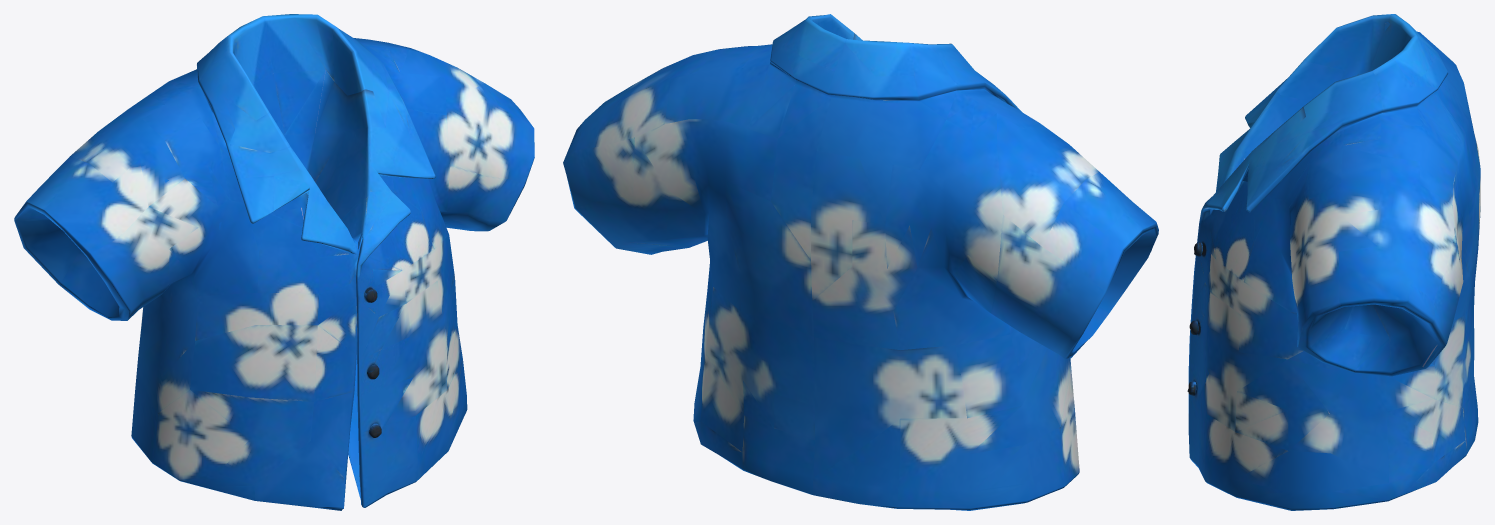
File: art_aloha_shirt.glb
3 renders of one model, left to right at view 1: azimuth 30°, elevation 25°; view 2: azimuth 150°, elevation 25°; view 3: azimuth 270°, elevation 25°, orthographic. The views are drawn at different scales.
Parts seen in each view (by area): view 1: Mesh_0; view 2: Mesh_0; view 3: Mesh_0.
Part boxes in pixels (left/top/right/bottom): Mesh_0: left=14, top=14, right=534, bottom=510; Mesh_0: left=563, top=14, right=1158, bottom=510; Mesh_0: left=1187, top=14, right=1480, bottom=510.
Bounding box in the file's own units: 1 × 0.8281 × 0.5137.
1 material, 1 textured.
